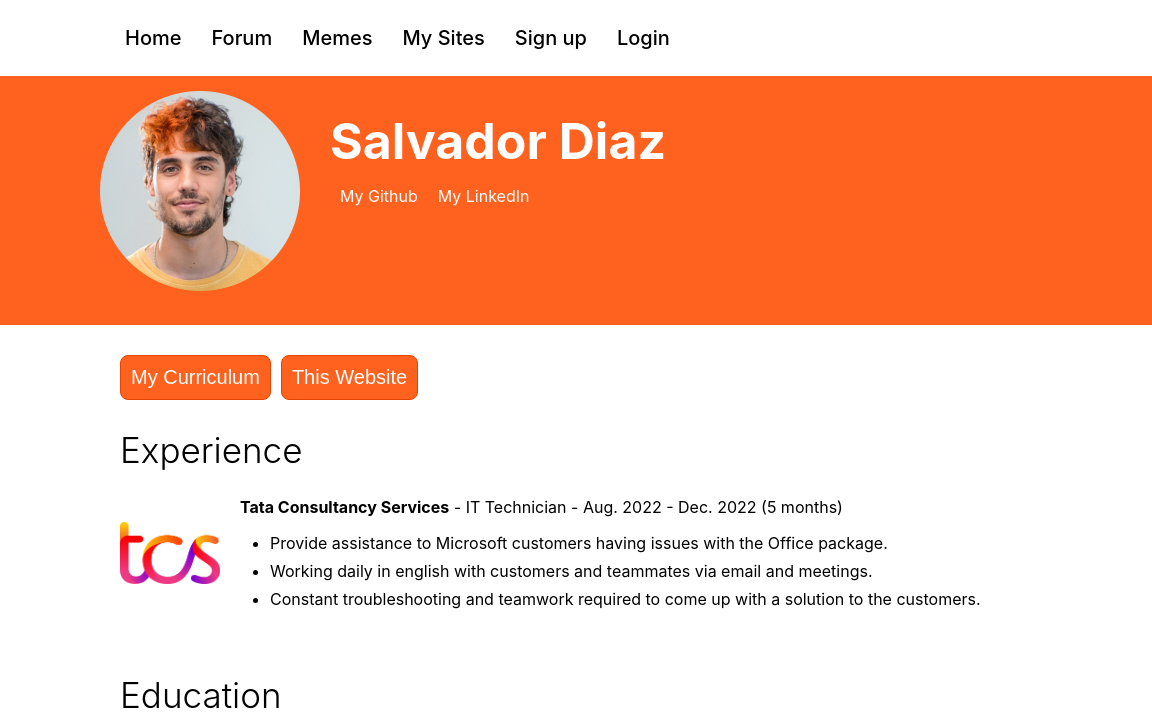
Scenario: My app page › When not logged in › Forum › Should not be able to create blog
Click the link "Forum" at (243, 38), box [212, 26, 273, 50]
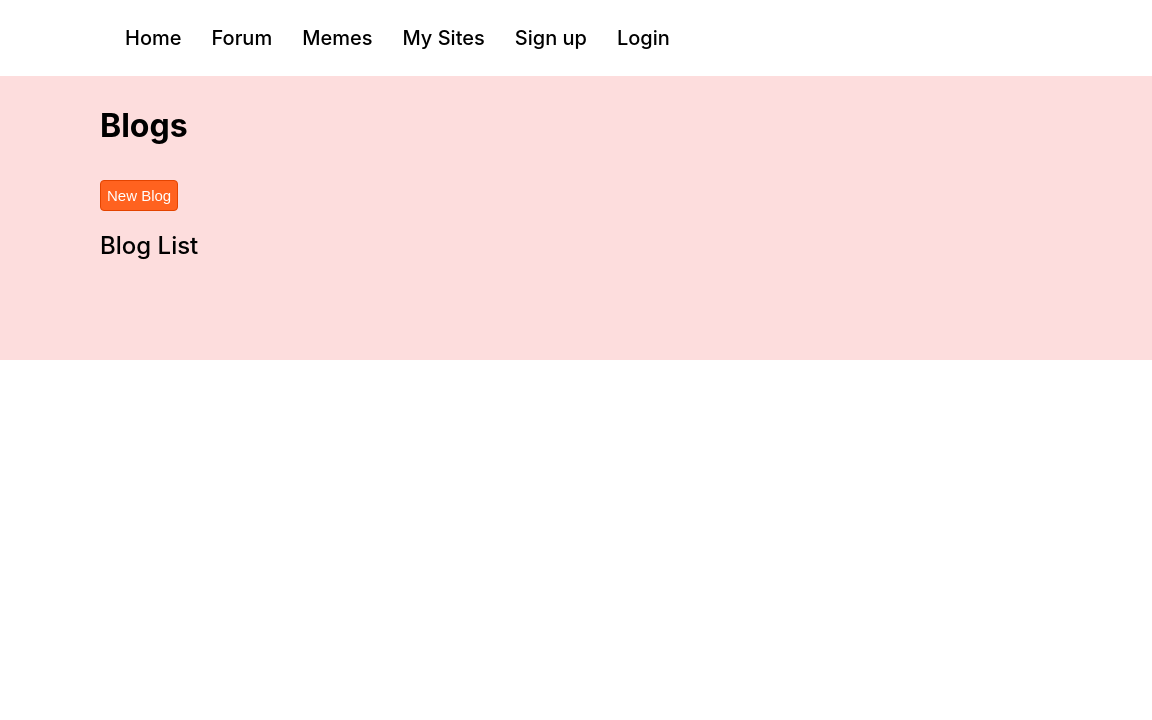
Click the button "New Blog" at (139, 196), box [100, 180, 178, 211]
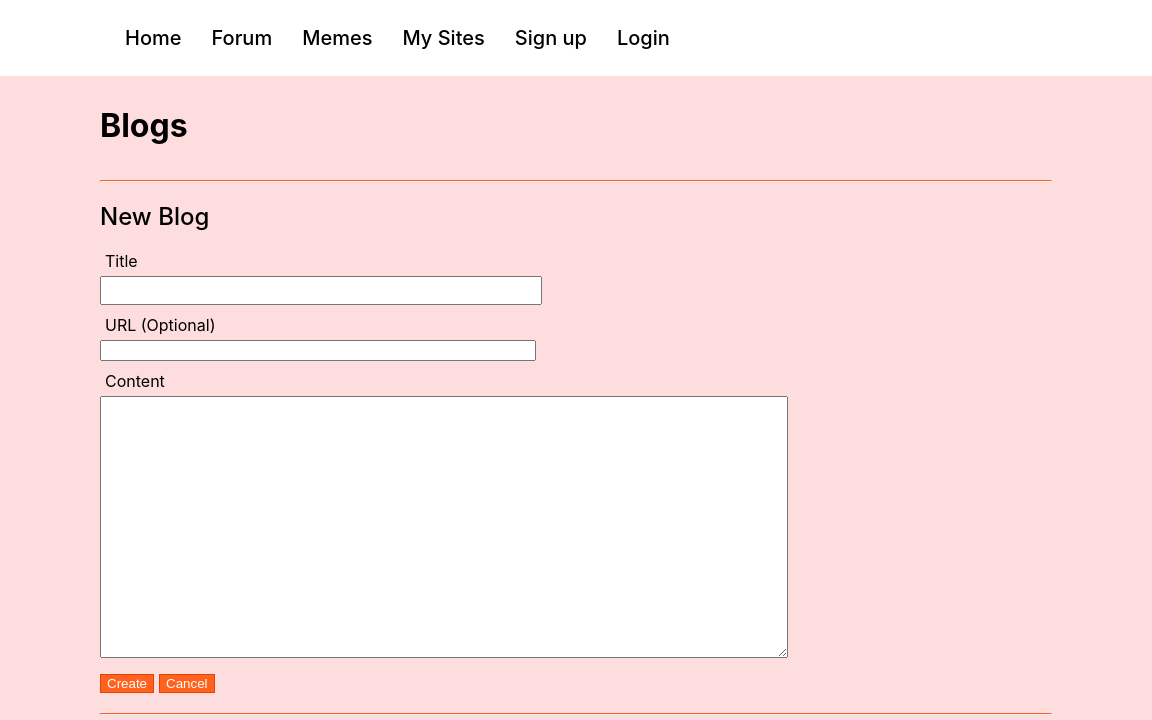
Type "A human blog" into the field with id "title" at (321, 291), box [100, 276, 542, 305]
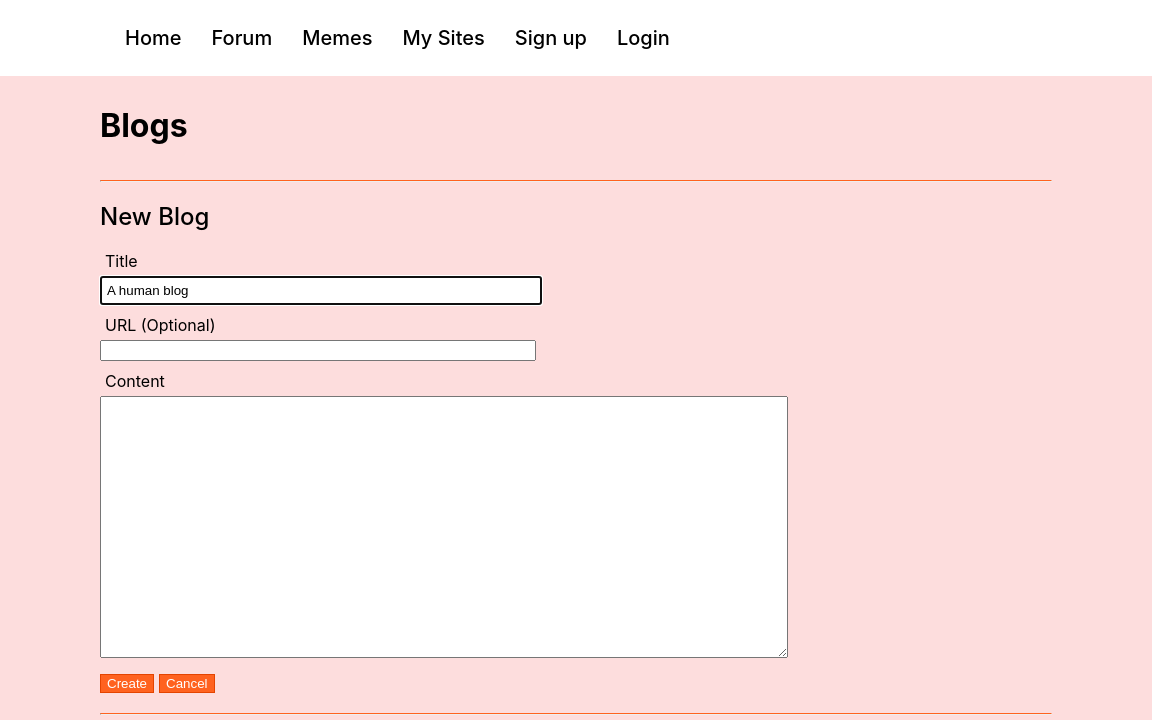
Type "https://en.wikipedia.org/wiki/Human" into the field with id "url" at (318, 351), box [100, 340, 536, 361]
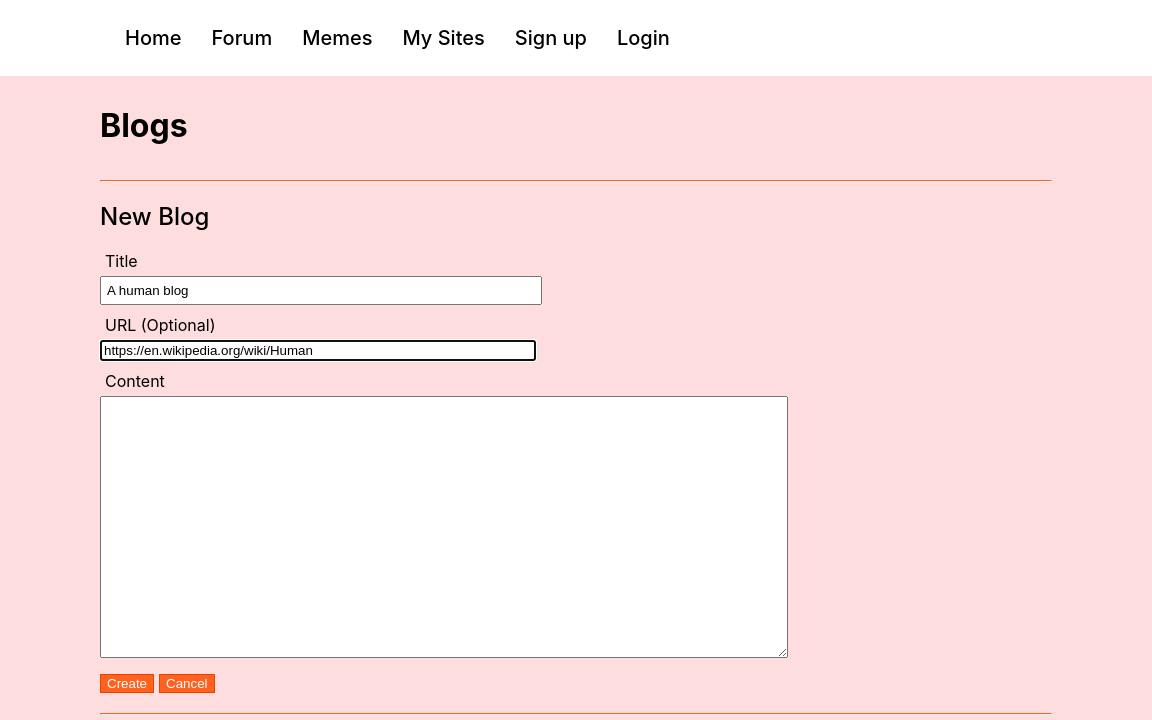
Type "Humans (Homo sapiens) are the most abundant and widespread species of primate, characterized by bipedalism and exceptional cognitive skills due to a large and complex brain." into the text box labelled "Content" at (444, 527), box [100, 396, 788, 658]
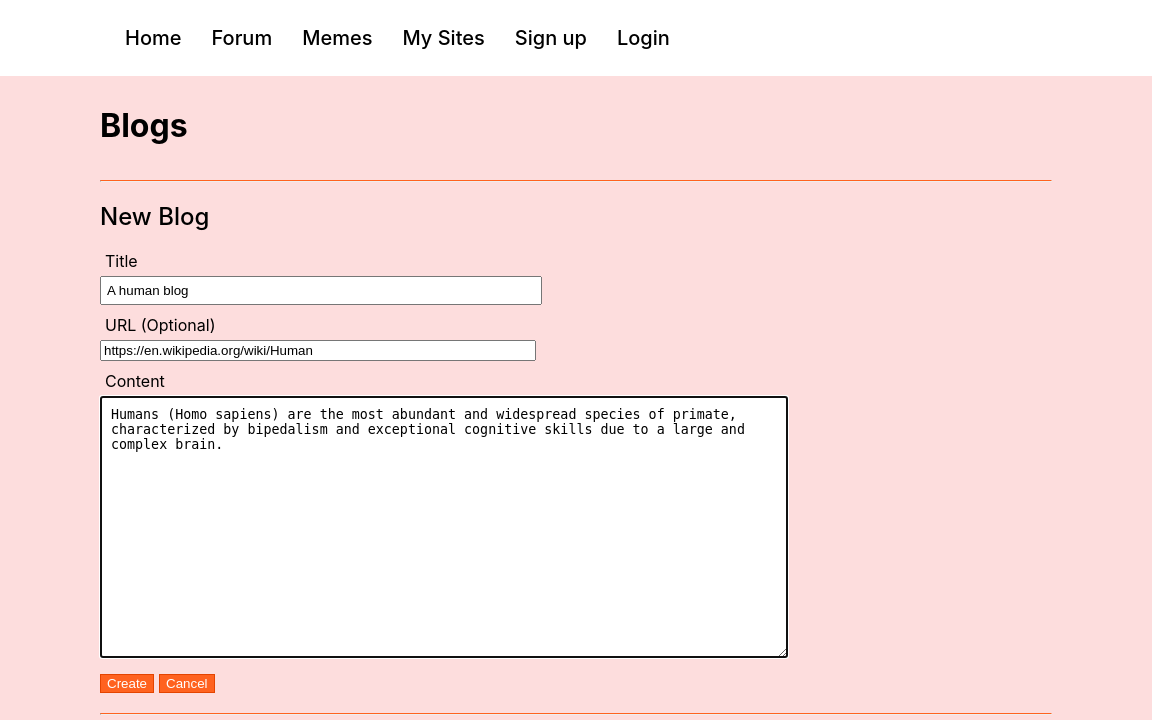
Click the button with id "create-blog-button" at (127, 684), box [100, 674, 154, 693]
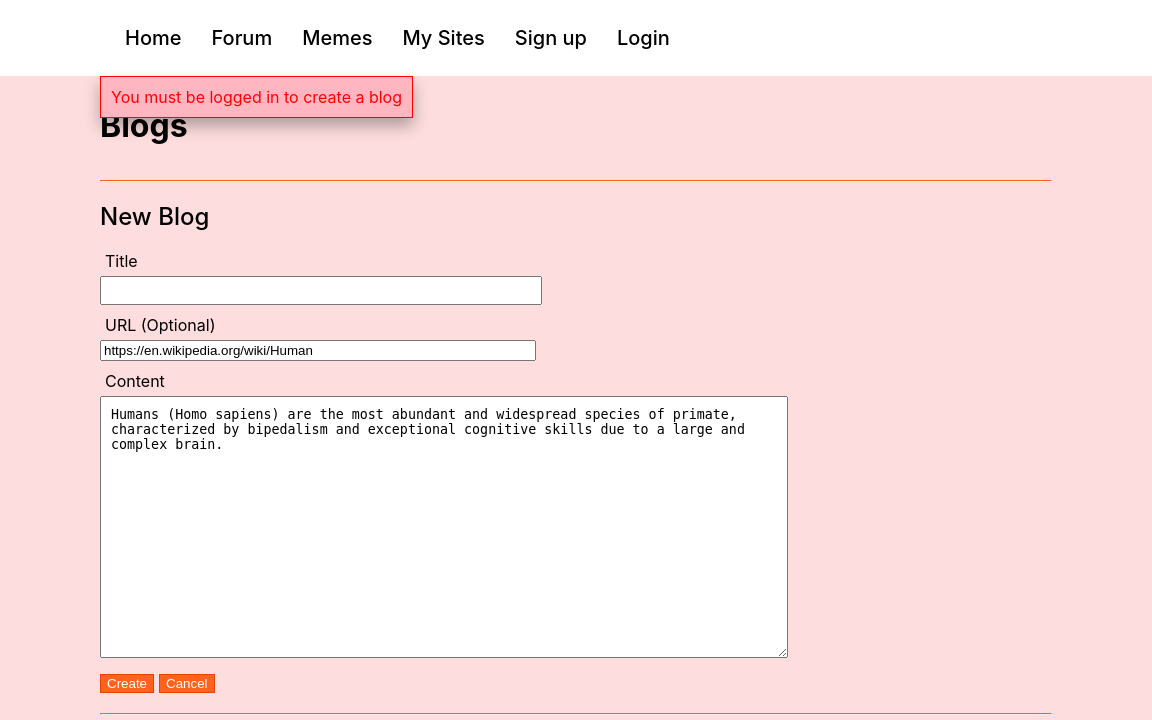
Check: the text "You must be logged in to create a blog" is shown, box [100, 76, 413, 118]
